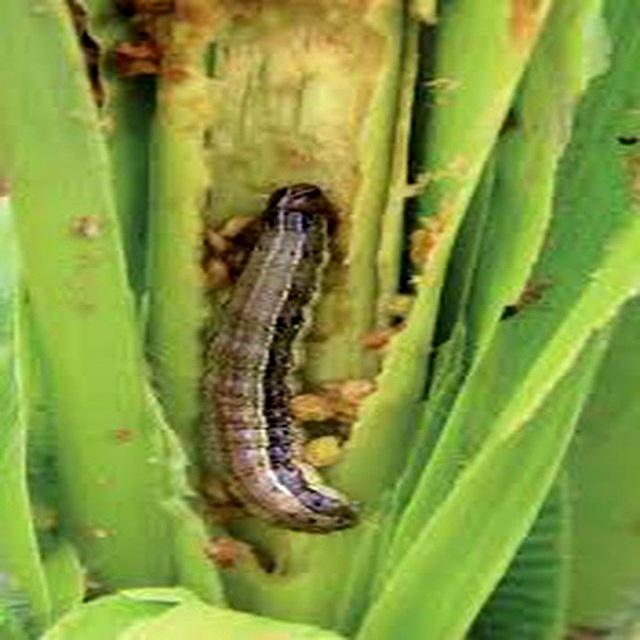Plaga: (195, 178, 369, 538)
